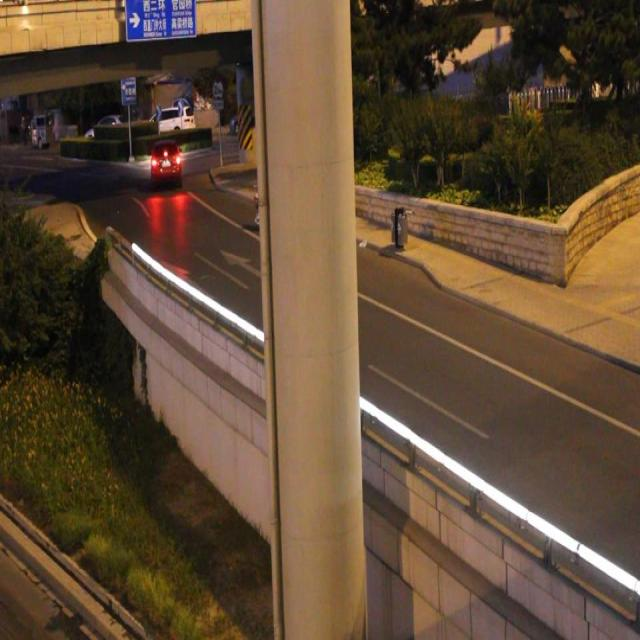car: (149, 140, 182, 187)
